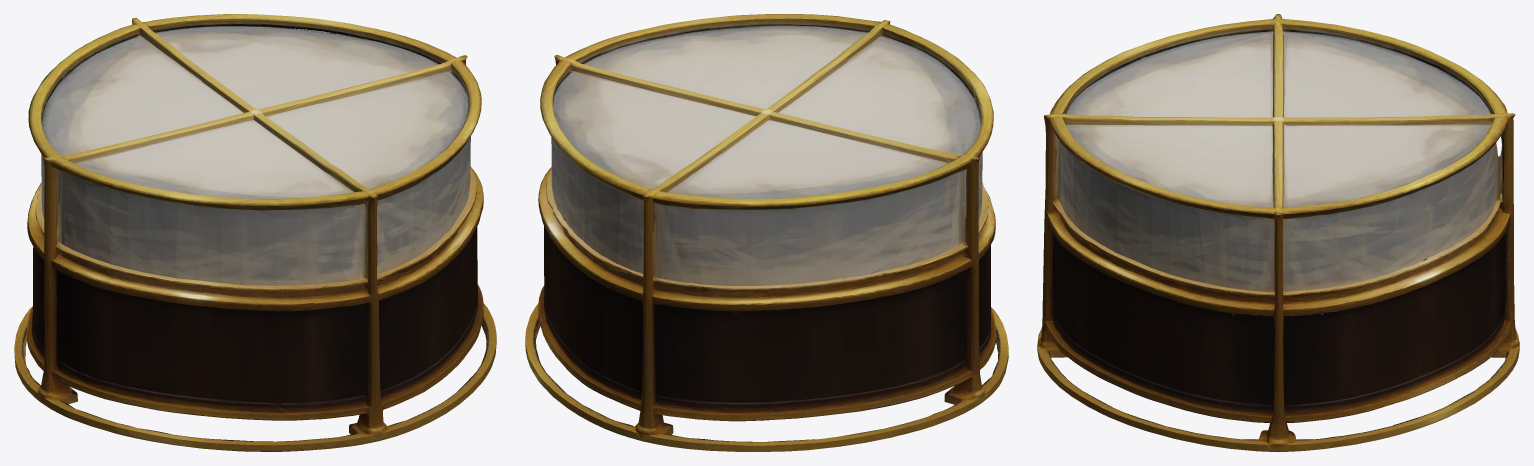
The model's file is table_side_drum_gold_2.glb.
The picture shows the model from 3 angles, left to right: view 1: azimuth 30°, elevation 25°; view 2: azimuth 150°, elevation 25°; view 3: azimuth 270°, elevation 25°; orthographic projection. The views are drawn at different scales.
Visible parts, largest first — view 1: geometry_0; view 2: geometry_0; view 3: geometry_0.
Part boxes in pixels (x1,y1,x2,y2): geometry_0: (14,14,496,451); geometry_0: (525,14,1008,451); geometry_0: (1037,14,1519,451).
Size of the model in its own units: 1 by 0.5413 by 1.
1 material, 1 textured.
